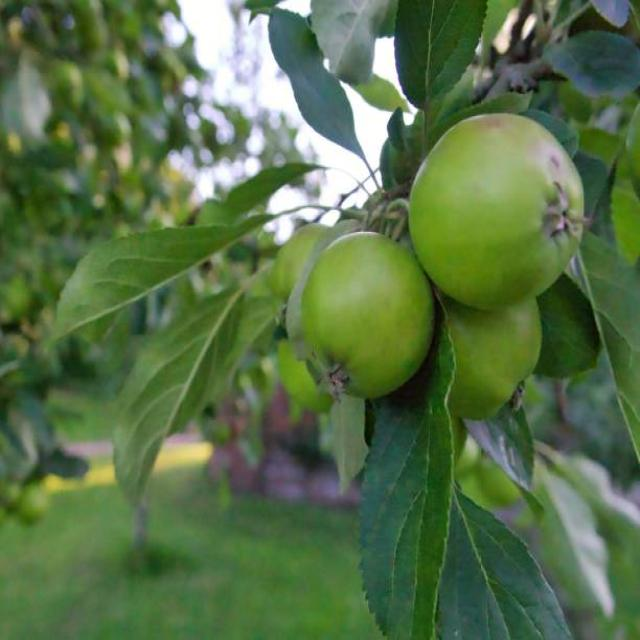Unripe: (411, 111, 587, 308), (301, 231, 436, 400)
